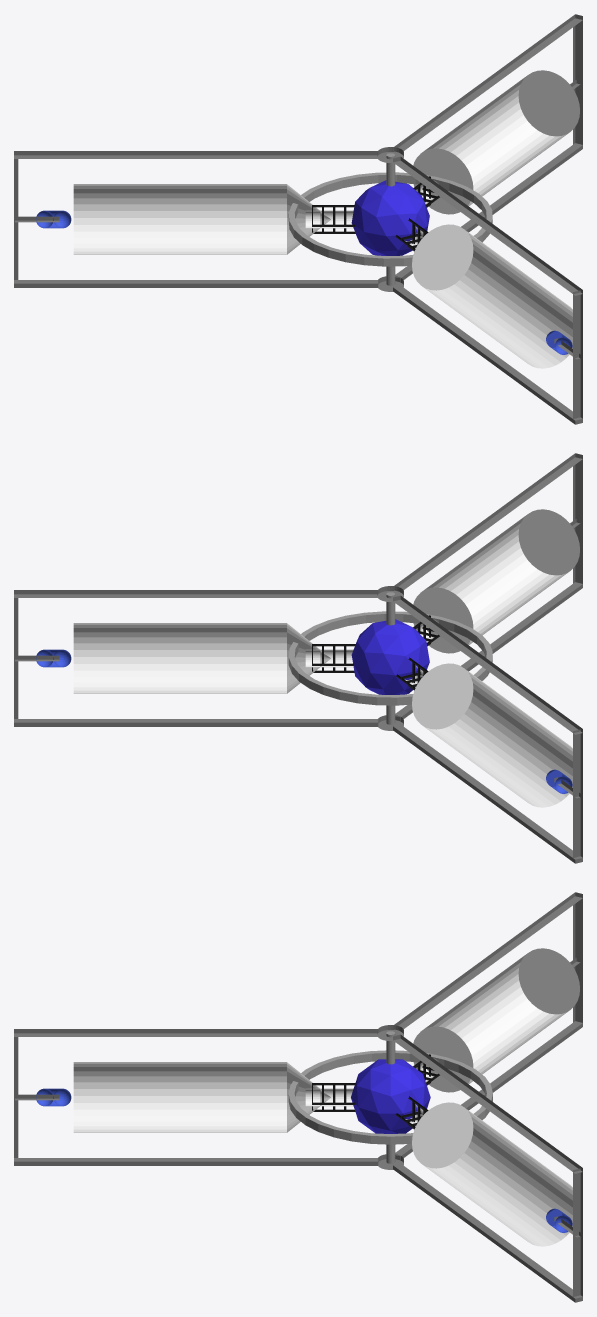
File: spaceship.gltf
3 views of the same model, one above another, from view 1: azimuth 30°, elevation 25°; view 2: azimuth 150°, elevation 25°; view 3: azimuth 270°, elevation 25° (orthographic).
Visible parts, largest first — view 1: Cube.002, Cube.004, Icosphere, Cylinder.003, Cube.001; view 2: Cube.002, Cube.004, Icosphere, Cylinder.003, Cube.001; view 3: Cube.002, Cube.004, Icosphere, Cylinder.003, Cube.001.
Boxes of the visible parts, x1,y1,x2,y2 form: Cube.002: [73, 70, 579, 368]; Cube.004: [14, 14, 582, 424]; Icosphere: [351, 180, 429, 255]; Cylinder.003: [288, 172, 492, 266]; Cube.001: [377, 147, 403, 291]; Cube.002: [73, 509, 579, 807]; Cube.004: [14, 453, 582, 863]; Icosphere: [351, 619, 429, 694]; Cylinder.003: [288, 611, 492, 705]; Cube.001: [377, 586, 403, 730]; Cube.002: [73, 948, 579, 1246]; Cube.004: [14, 892, 582, 1302]; Icosphere: [351, 1059, 430, 1133]; Cylinder.003: [288, 1050, 492, 1144]; Cube.001: [377, 1025, 403, 1169].
Bounding box in the file's own units: 14782 × 3320 × 12802.
